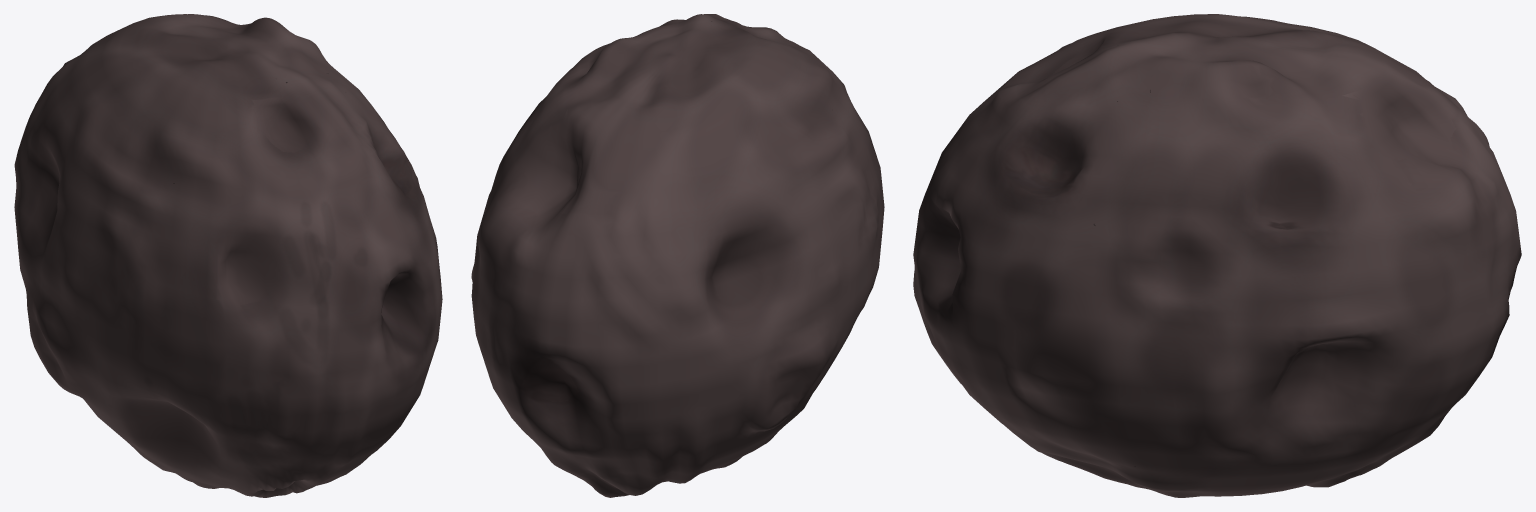
Rendered from asteroid.glb.
The picture shows the model from 3 angles, left to right: view 1: azimuth 30°, elevation 25°; view 2: azimuth 150°, elevation 25°; view 3: azimuth 270°, elevation 25°; orthographic projection. The views are drawn at different scales.
Visible parts, largest first — view 1: Sphere; view 2: Sphere; view 3: Sphere.
Part boxes in pixels (box(x1,y1,x2,y2)): Sphere: box(14, 14, 442, 497); Sphere: box(471, 14, 884, 497); Sphere: box(913, 14, 1521, 497).
Bounding box in the file's own units: 1.93 × 2.37 × 2.92.
Materials: 1 (1 with a texture image).
